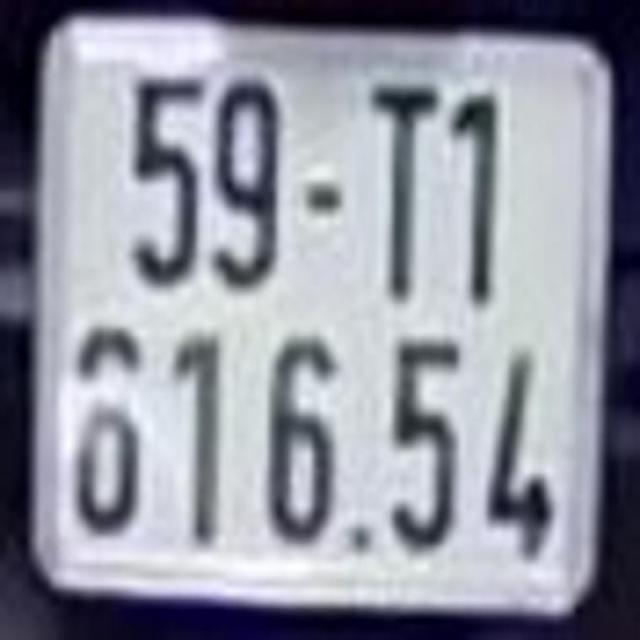1: (442, 76, 510, 306), (164, 321, 228, 552)
4: (482, 332, 554, 567)
5: (386, 330, 464, 553), (127, 63, 203, 286)
6: (259, 324, 336, 551), (70, 321, 141, 538)
9: (208, 64, 282, 292)
T: (364, 73, 442, 298)
